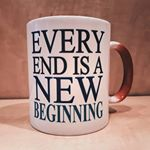cups: (24, 14, 137, 138)
